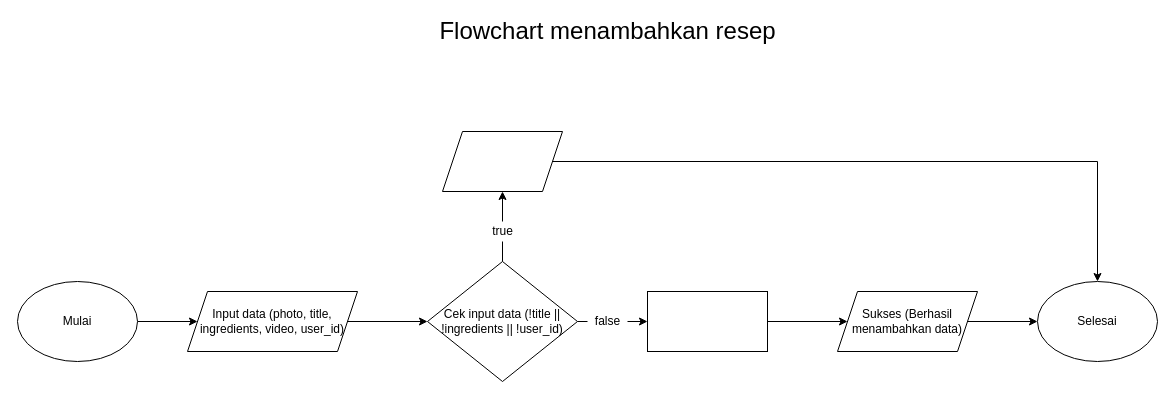
Image size: 1175x399. Some labels were removed from this diagram. The shapes that lost their labels are listed below. From the top down, each one's centre as x and y in pixels, then its label:
At point (502, 161): "Error (Data harus diisi)".
At point (707, 321): "Proses insert data ke DB".
